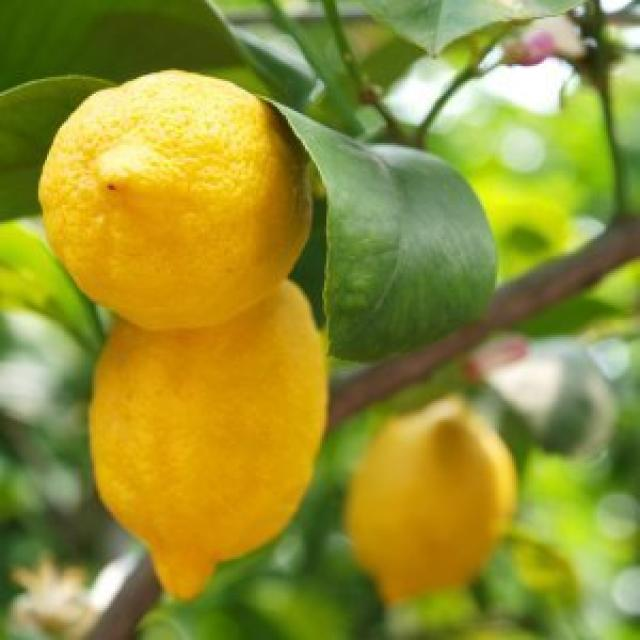lemon: (79, 277, 342, 598), (40, 58, 321, 329), (342, 400, 522, 614)
